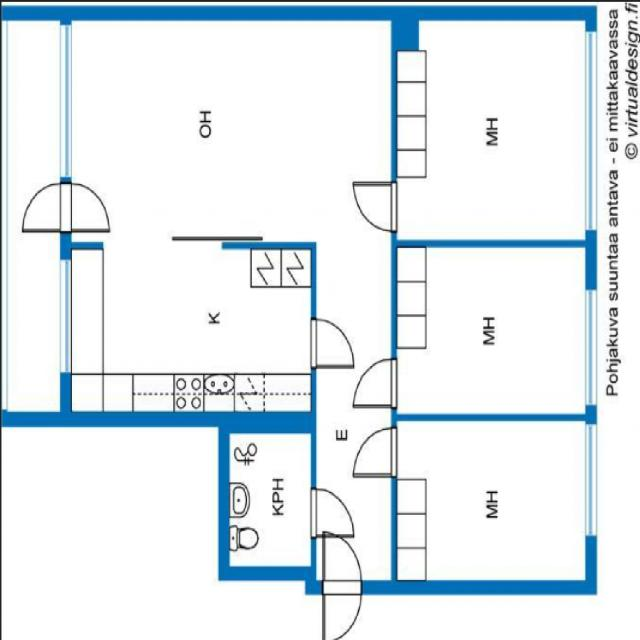door: (323, 532, 361, 594), (59, 182, 108, 230), (322, 580, 361, 640), (22, 182, 70, 230), (391, 428, 435, 477), (353, 183, 397, 230), (391, 359, 434, 406), (310, 488, 352, 536)
